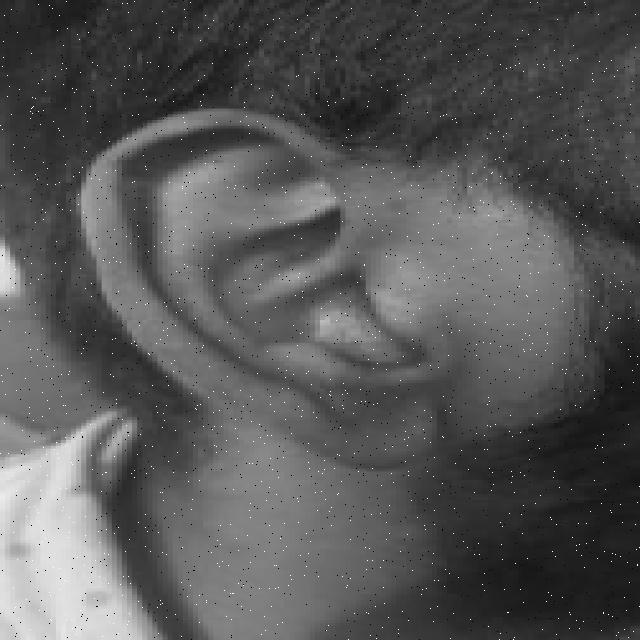ear: (76, 106, 417, 460)
